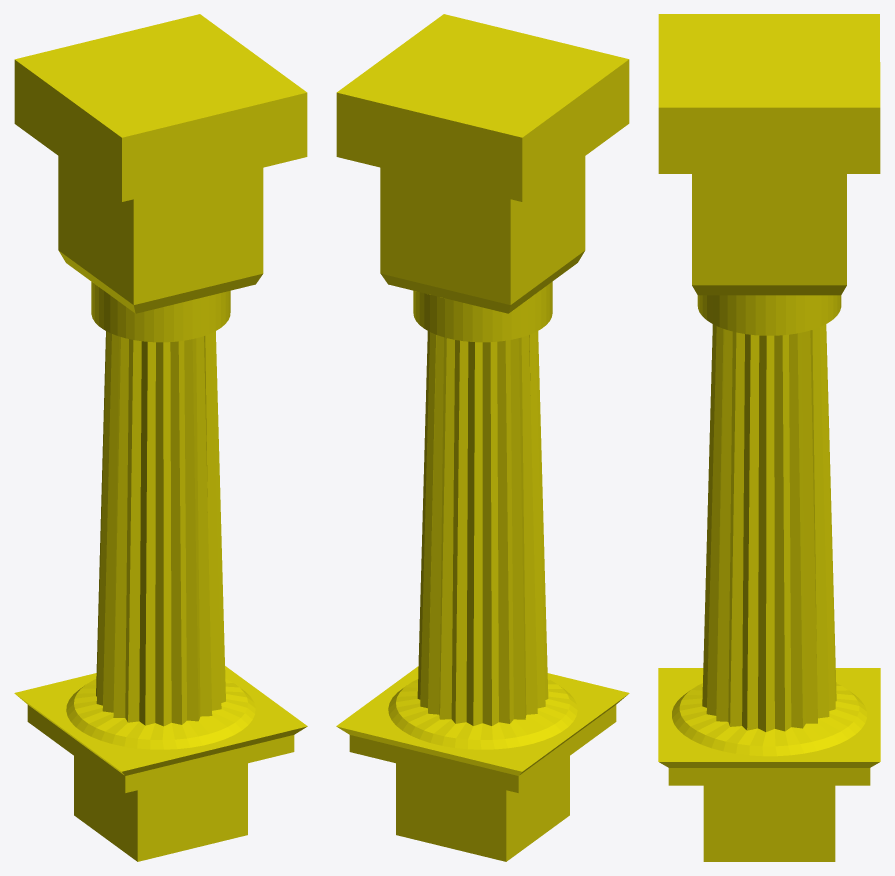
The model's file is HeavenGate.fbx.
The picture shows the model from 3 angles, left to right: view 1: azimuth 30°, elevation 25°; view 2: azimuth 150°, elevation 25°; view 3: azimuth 270°, elevation 25°; orthographic projection. The views are drawn at different scales.
Visible parts, largest first — view 1: Cube; view 2: Cube; view 3: Cube.
Part boxes in pixels (x1,y1,x2,y2): Cube: (14,14,307,861); Cube: (336,14,629,861); Cube: (658,14,880,861).
Bounding box in the file's own units: 506 × 1945 × 506.
